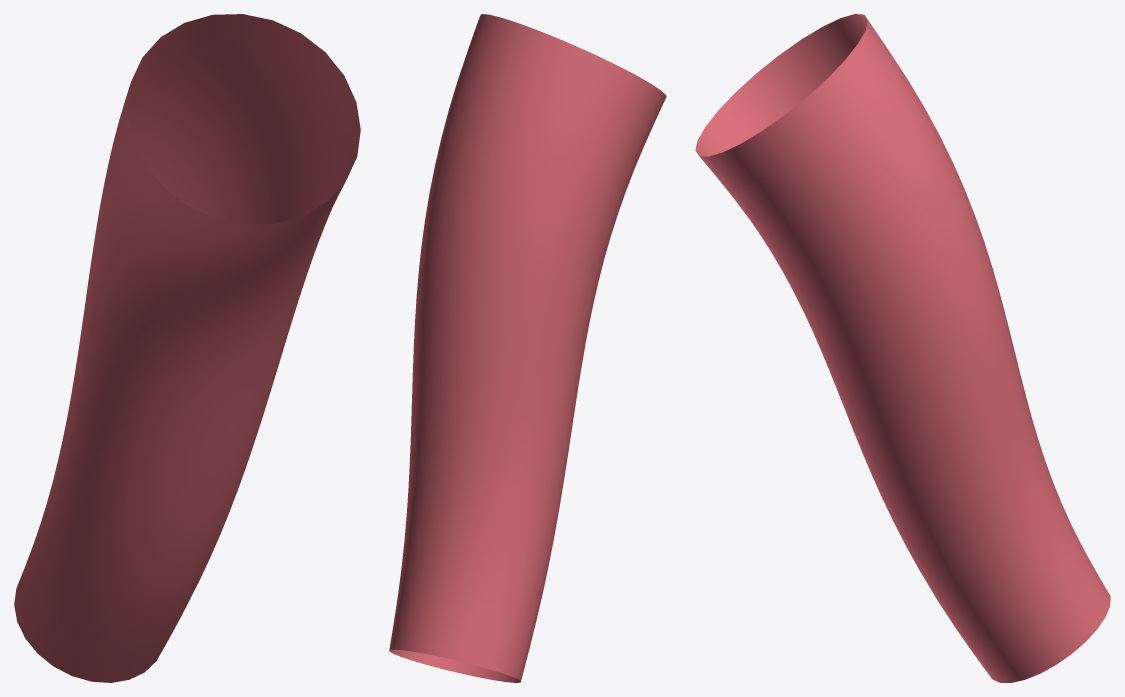
3 views of the same model, side by side, from view 1: azimuth 30°, elevation 25°; view 2: azimuth 150°, elevation 25°; view 3: azimuth 270°, elevation 25° (orthographic). The views are drawn at different scales.
Parts seen in each view (by area): view 1: ZA_08b38737192e2258; view 2: ZA_08b38737192e2258; view 3: ZA_08b38737192e2258.
Part boxes in pixels (x1,y1,x2,y2): ZA_08b38737192e2258: (14, 14, 360, 682); ZA_08b38737192e2258: (389, 14, 666, 682); ZA_08b38737192e2258: (695, 14, 1110, 682).
Size of the model in its own units: 0.00579 by 0.0188 by 0.0109.
